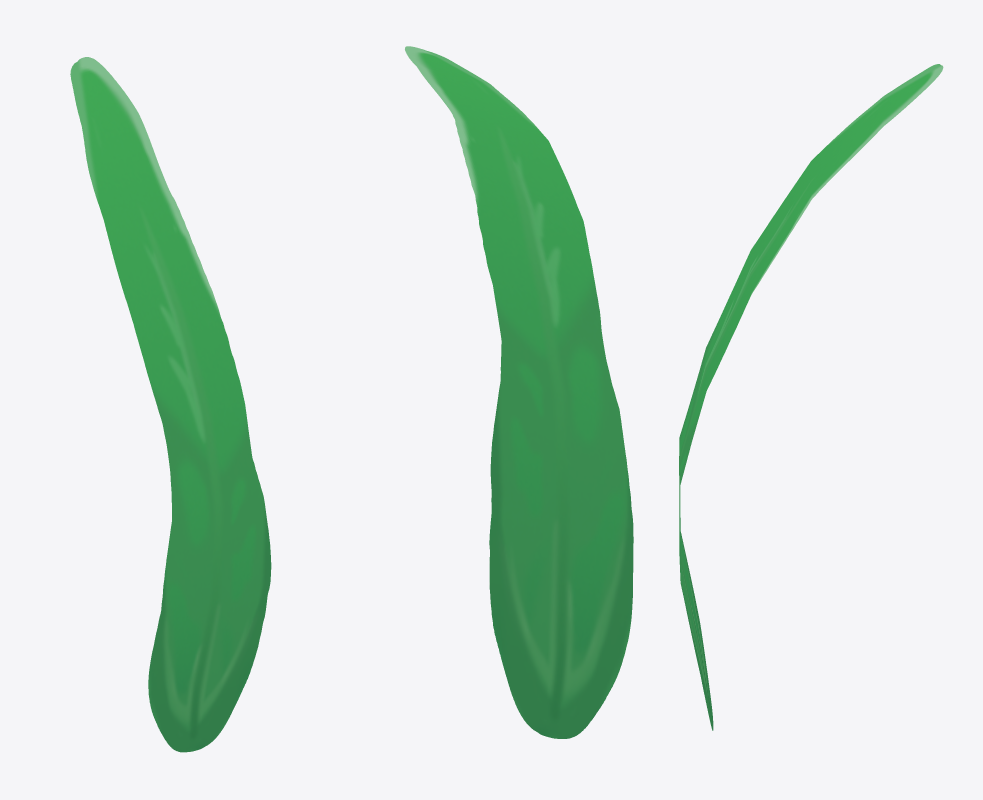
The model's file is HojaP_2.fbx.
3 views of the same model, side by side, from view 1: azimuth 30°, elevation 25°; view 2: azimuth 150°, elevation 25°; view 3: azimuth 270°, elevation 25° (orthographic). The views are drawn at different scales.
Parts seen in each view (by area): view 1: HojaP_2; view 2: HojaP_2; view 3: HojaP_2.
Part boxes in pixels (x1,y1,x2,y2): HojaP_2: (70, 57, 271, 752); HojaP_2: (405, 46, 633, 738); HojaP_2: (679, 64, 943, 730).
Size of the model in its own units: 0.3531 by 1.68 by 0.6288.
